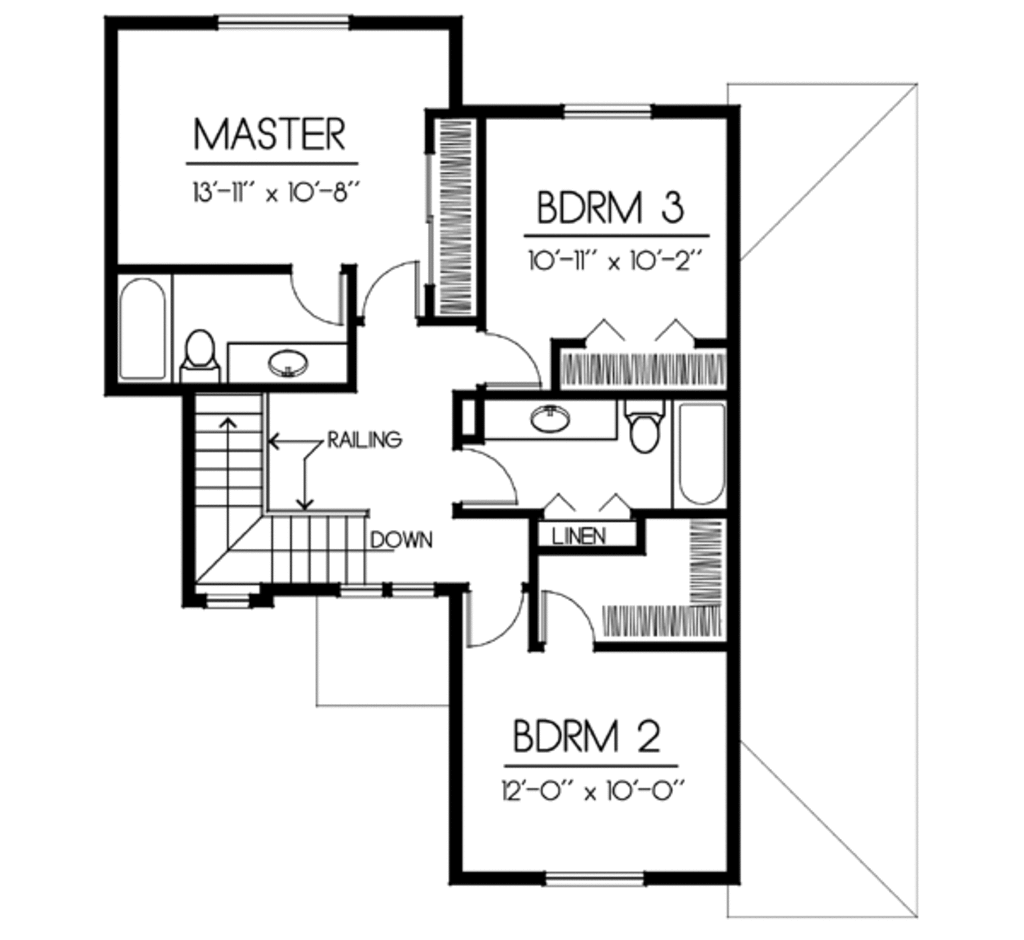door: (349, 251, 432, 328), (443, 438, 523, 506), (283, 260, 359, 330), (469, 317, 538, 386), (459, 584, 532, 646), (535, 587, 596, 644)
large_sink: (621, 398, 668, 458), (179, 328, 222, 383)
small_sink: (496, 390, 591, 441), (242, 344, 332, 386)
stairs: (196, 393, 381, 590)
tub: (111, 270, 176, 386), (662, 393, 721, 517)
window: (532, 848, 653, 887), (218, 6, 356, 33), (341, 573, 443, 604), (555, 98, 659, 127), (203, 588, 249, 611)
